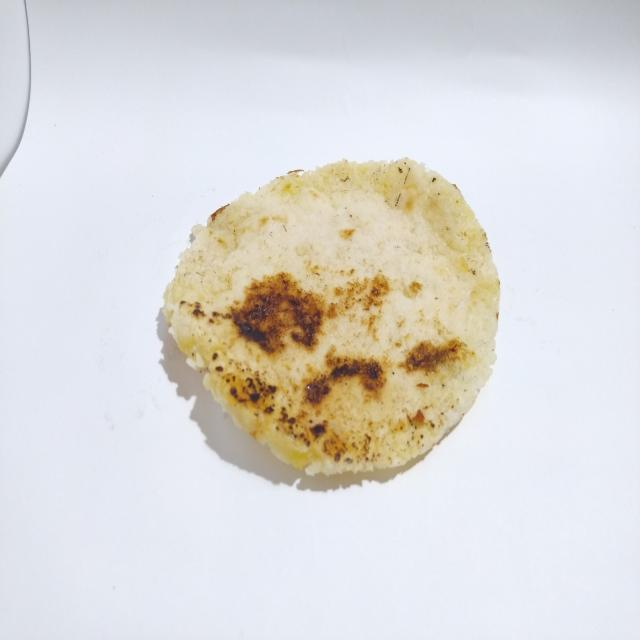Food: (155, 152, 506, 488)
